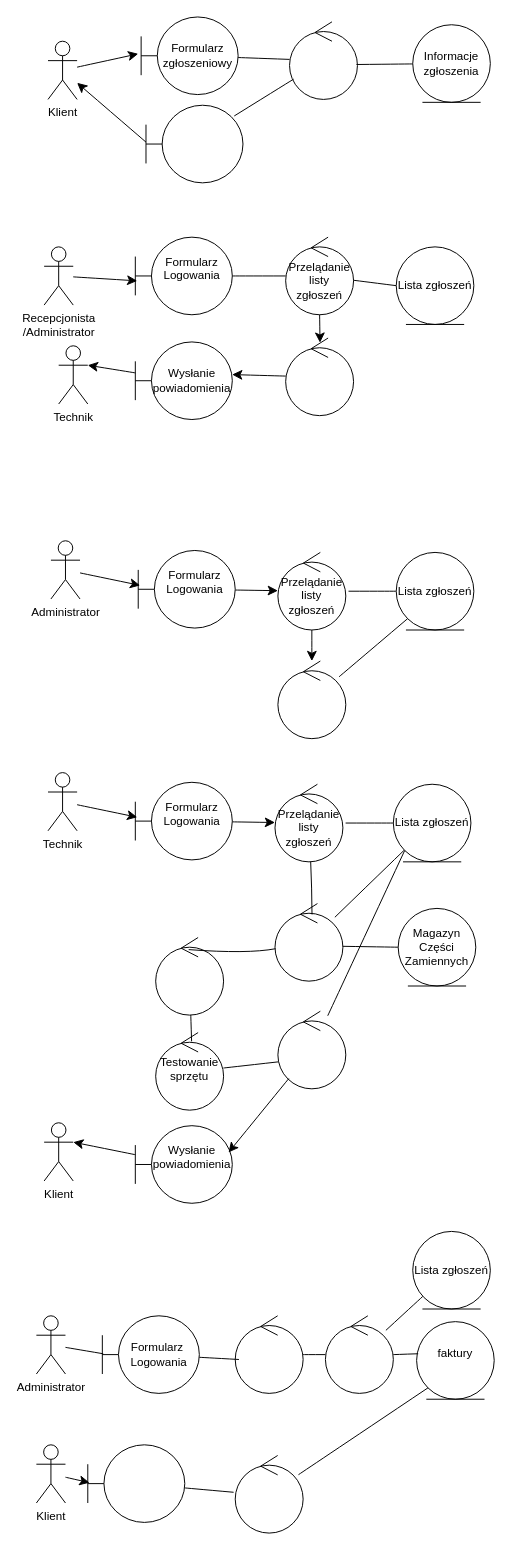
Image size: 511x1555. Some labels were removed from this diagram. Each missing label, with the centre of its shape:
"Analiza problemu" belongs at pixel 308 942.
"Naprawa sprzętu" belongs at pixel 189 976.
"Obliczenie kosztu naprawy" belongs at pixel 358 1354.
"Opłata za fakture" belongs at pixel 136 1483.
"Przetworzenie informacji o zgłoszeniu" belongs at pixel 323 60.
"Przetworzenie płatności" belongs at pixel 268 1494.
"Przypisanie zgłoszenia do technika" belongs at pixel 319 376.
"Wystaw Fakturę" belongs at pixel 268 1354.
"Wysłanie powieadomienia" belongs at pixel 194 143.
"Zakończenie zgłoszenia" belongs at pixel 311 1049.
"Zmiana statusu zlecenia" belongs at pixel 311 699.
